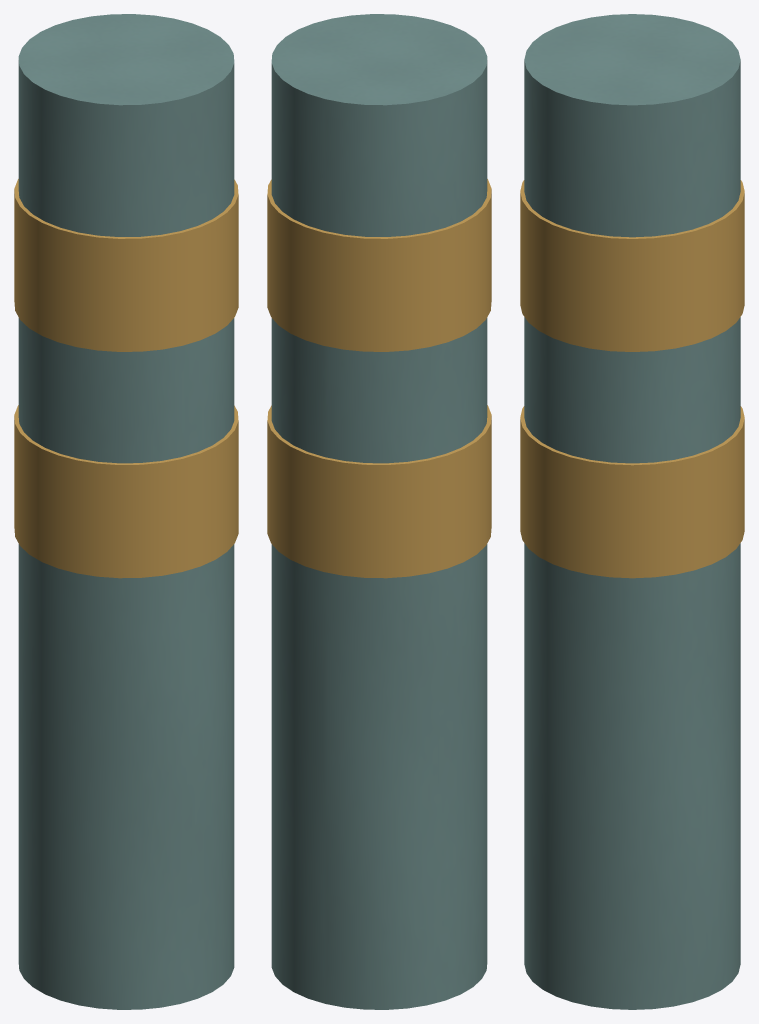
File: Test_Bollard.glb
3 renders of one model, left to right at view 1: azimuth 30°, elevation 25°; view 2: azimuth 150°, elevation 25°; view 3: azimuth 270°, elevation 25°, orthographic.
Visible parts, largest first — view 1: Test_Bollard; view 2: Test_Bollard; view 3: Test_Bollard.
Part boxes in pixels (x1,y1,x2,y2): Test_Bollard: [14, 14, 238, 1009]; Test_Bollard: [267, 14, 491, 1009]; Test_Bollard: [520, 14, 744, 1009].
Bounding box in the file's own units: 0.27 × 1.2 × 0.27.
Materials: 2 (1 with a texture image).
